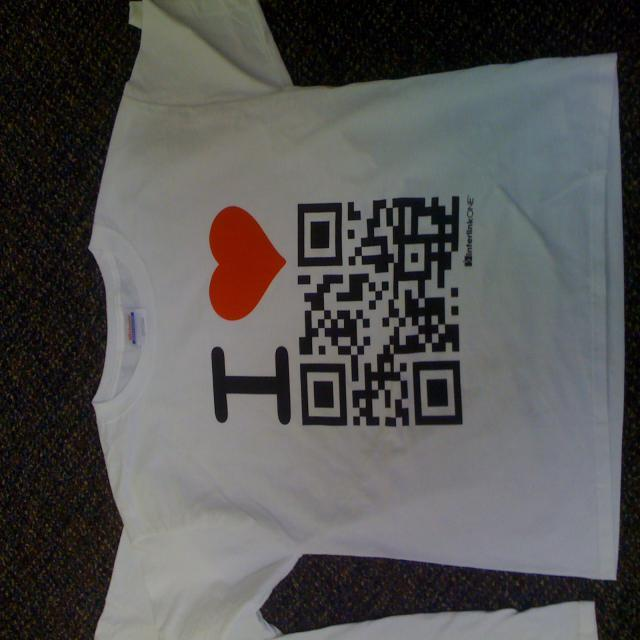qrcode: (299, 197, 464, 427)
